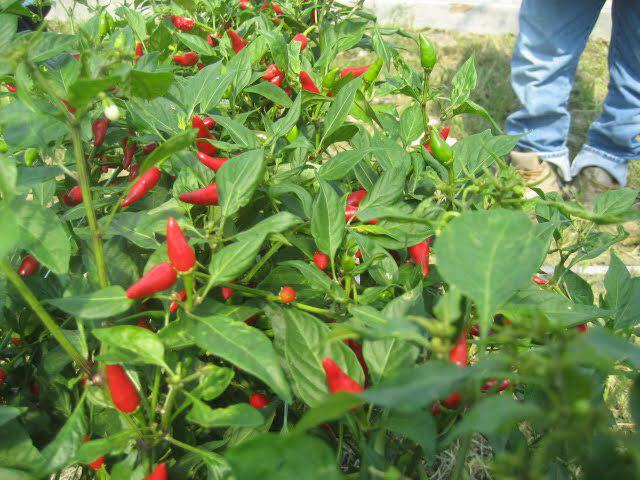lada merah: (160, 210, 202, 283), (114, 161, 177, 205), (127, 259, 180, 305), (102, 359, 139, 415), (319, 358, 364, 401), (194, 151, 230, 170)
